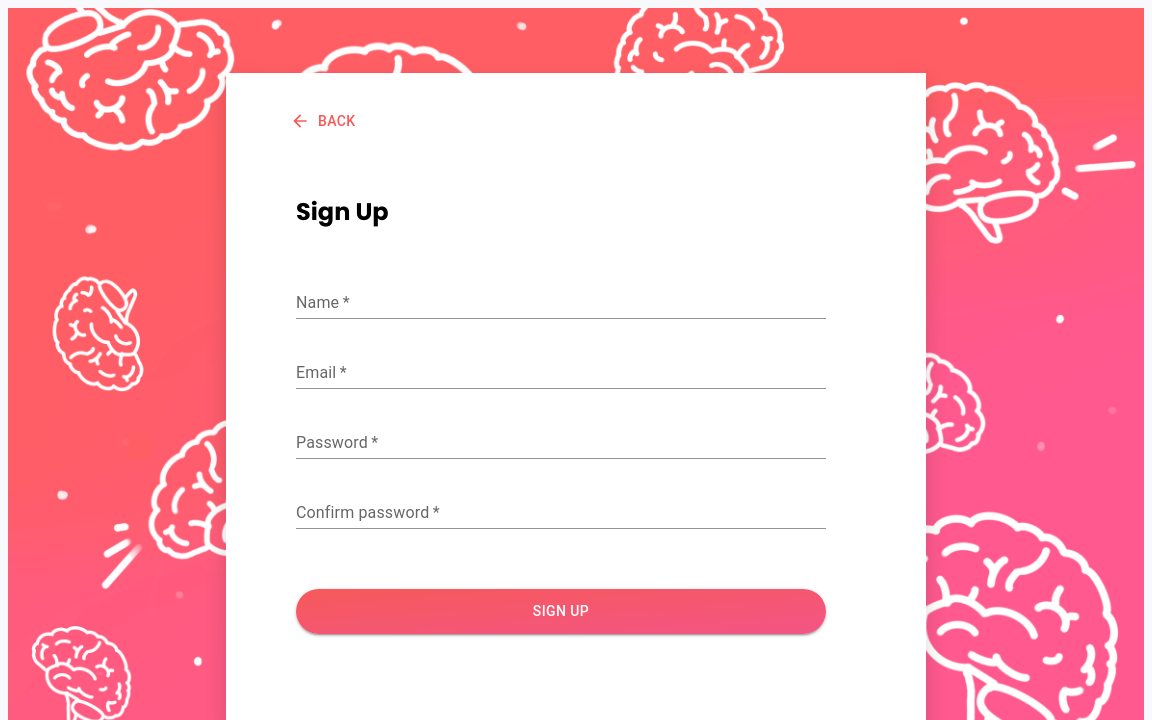
Test case: Component testing - Register › renders the error modal when an empty name is submitted
# emptying the name field and attmepting to submit the form
Focus the field with id "name" at (561, 303), box [296,287,826,319]
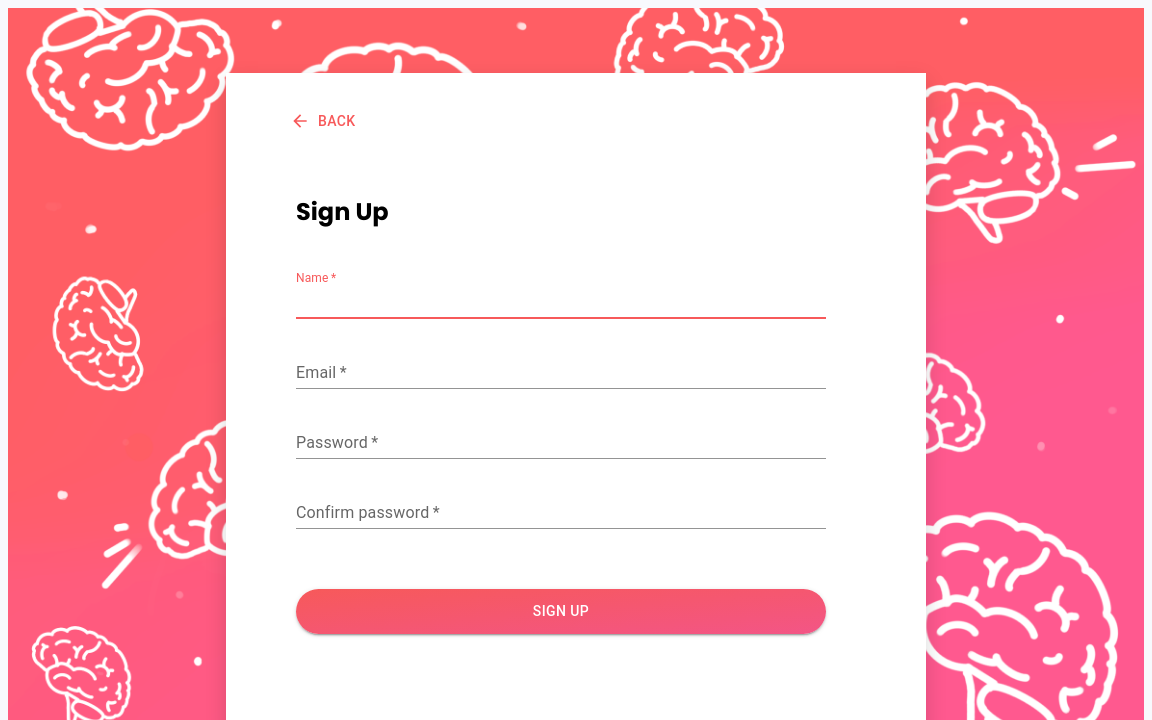
Click the button with id "signup" at (561, 612), box [296,589,826,634]
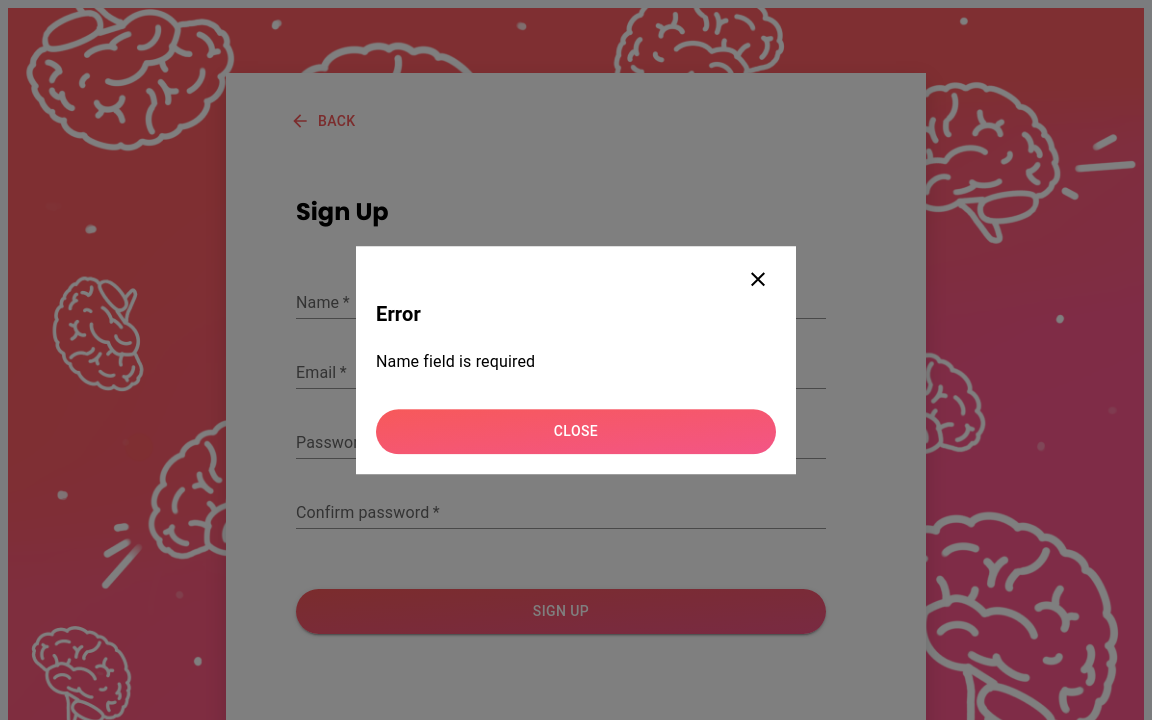
Result: the element with id "error-modal" is shown
Result: the text with id "error-modal-description" reads "Name field is required" at [376,352,535,371]
